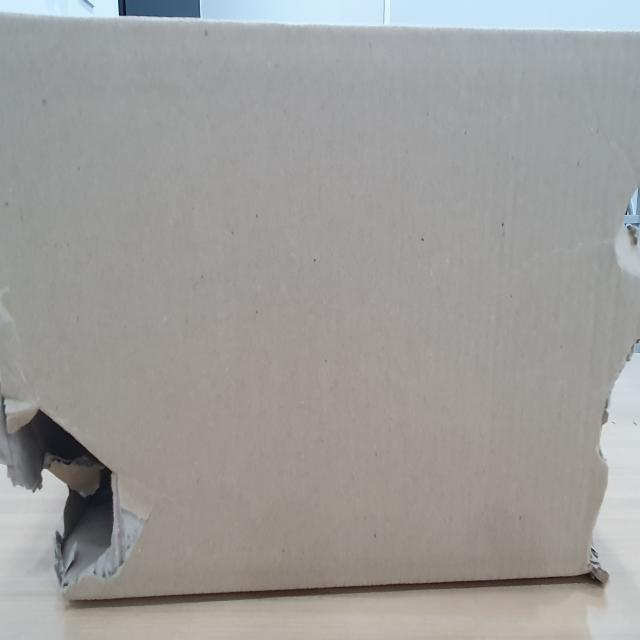hole: (11, 389, 137, 596), (579, 177, 640, 589)
